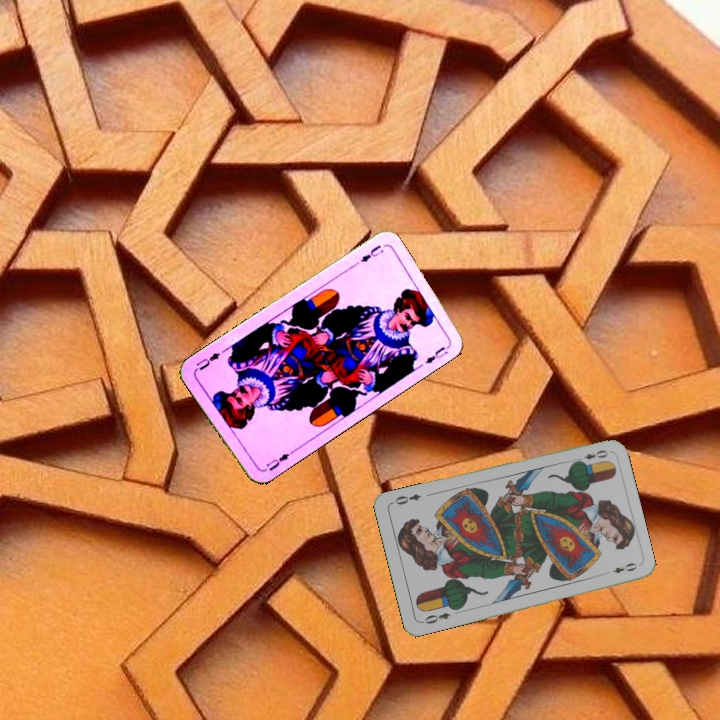EO: (571, 446, 611, 466), (417, 608, 453, 627)
EU: (260, 446, 296, 474), (356, 241, 386, 265)
